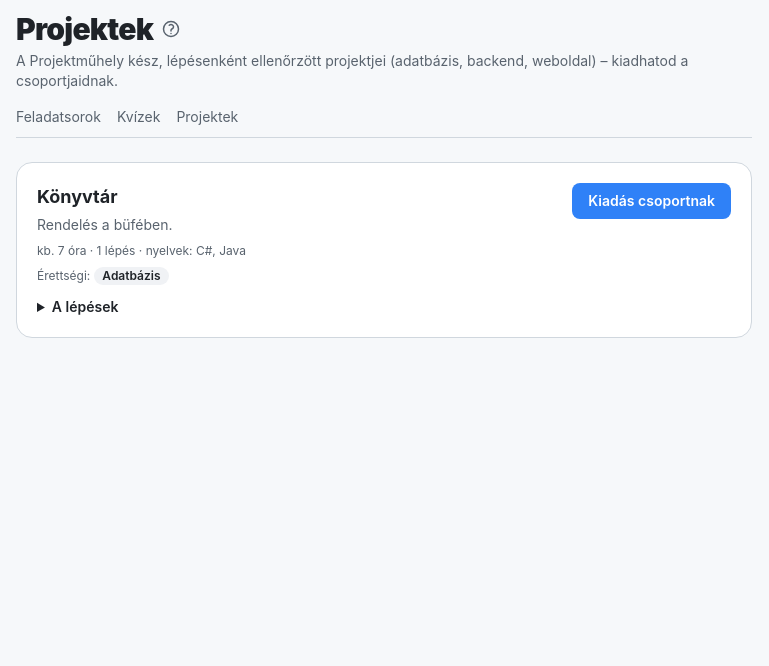
Test: ProjektekListaComponent (Projektek fül) › technikumi feladat: a nyelv a diák választása (C# vagy Java), nincs „Csak C# (ASP.NET Core)” opció
Expected: the list item with test id "project-konyvtar" shows "nyelvek: C#, Java", [37,243,246,258]
Click the button with test id "assign-open-konyvtar": (652, 201) [572,183,731,219]
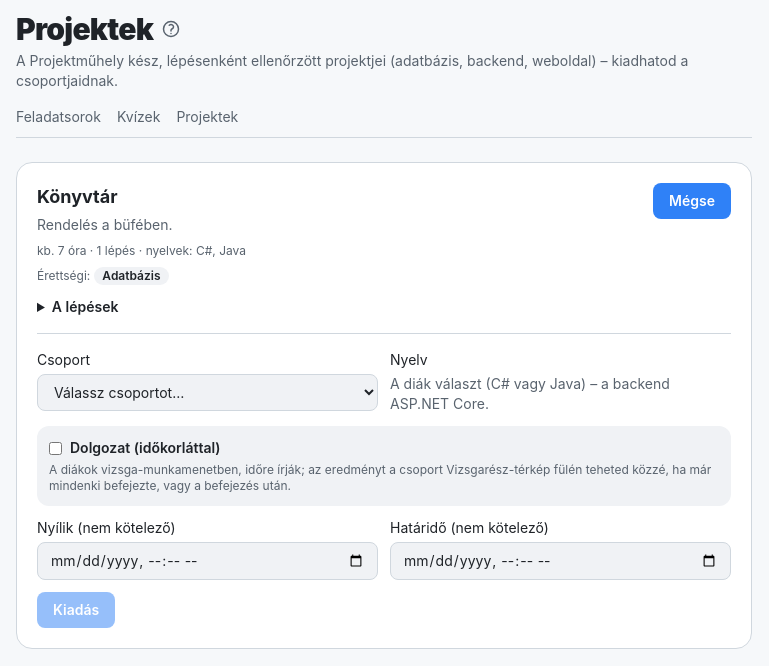
Now the element with test id "assign-language-note" shows "A diák választ (C# vagy Java)", box [390,375,670,412]
